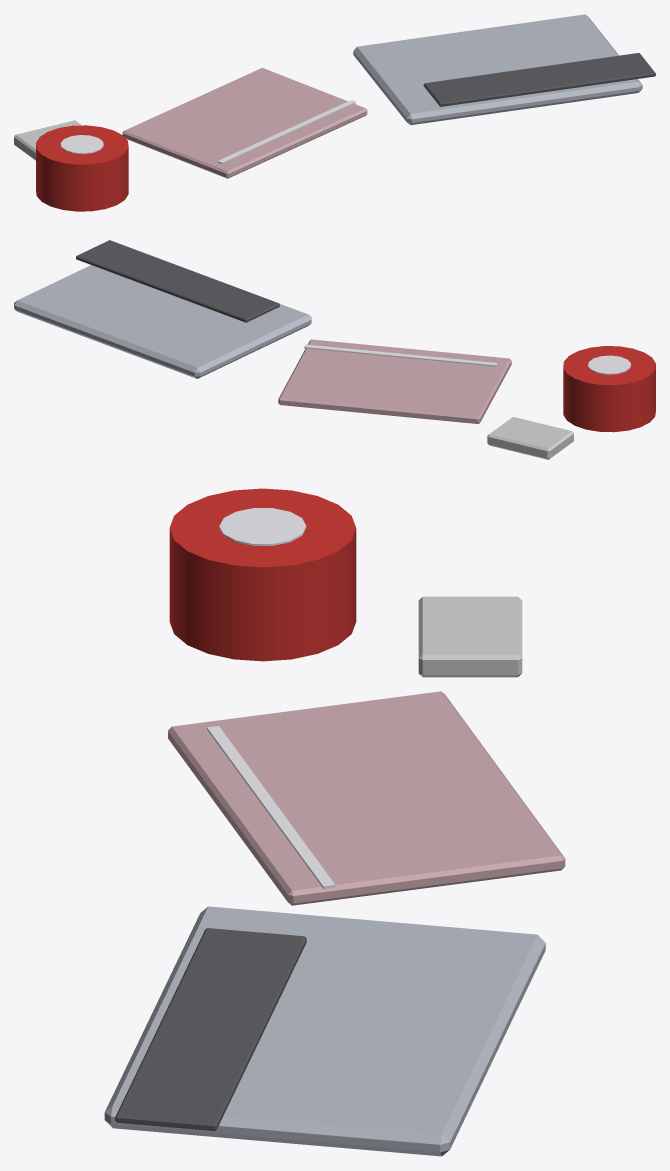
The model's file is kit_embalagem.obj.
The picture shows the model from 3 angles, top to bottom: view 1: azimuth 30°, elevation 25°; view 2: azimuth 150°, elevation 25°; view 3: azimuth 270°, elevation 25°; orthographic projection. The views are drawn at different scales.
Parts seen in each view (by area): view 1: kit_embalagem; view 2: kit_embalagem; view 3: kit_embalagem.
Boxes of the visible parts, bbox=[...] form: kit_embalagem: bbox=[14, 14, 655, 211]; kit_embalagem: bbox=[14, 240, 655, 459]; kit_embalagem: bbox=[104, 488, 565, 1156].
Size of the model in its own units: 0.6587 by 0.052 by 0.2222.
